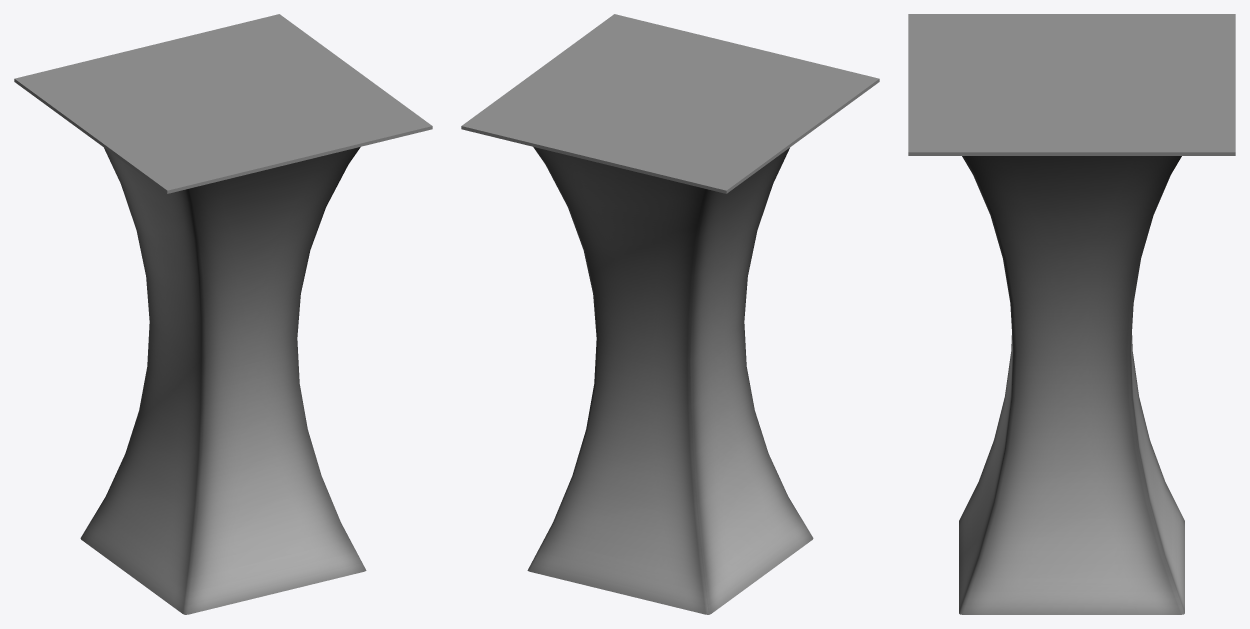
The model's file is LedTable01.FBX.
3 renders of one model, left to right at view 1: azimuth 30°, elevation 25°; view 2: azimuth 150°, elevation 25°; view 3: azimuth 270°, elevation 25°, orthographic. The views are drawn at different scales.
Visible parts, largest first — view 1: LedTable01; view 2: LedTable01; view 3: LedTable01.
Boxes of the visible parts, x1,y1,x2,y2 form: LedTable01: (14,14,432,614); LedTable01: (461,14,879,614); LedTable01: (908,14,1235,614).
Size of the model in its own units: 73.71 by 120 by 73.71.
